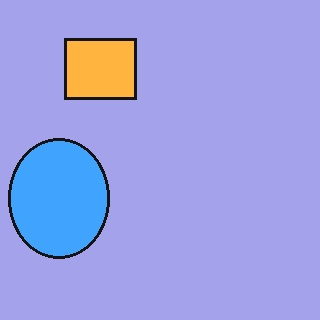circle_target: (8, 139, 110, 259)
square_target: (65, 38, 136, 100)
